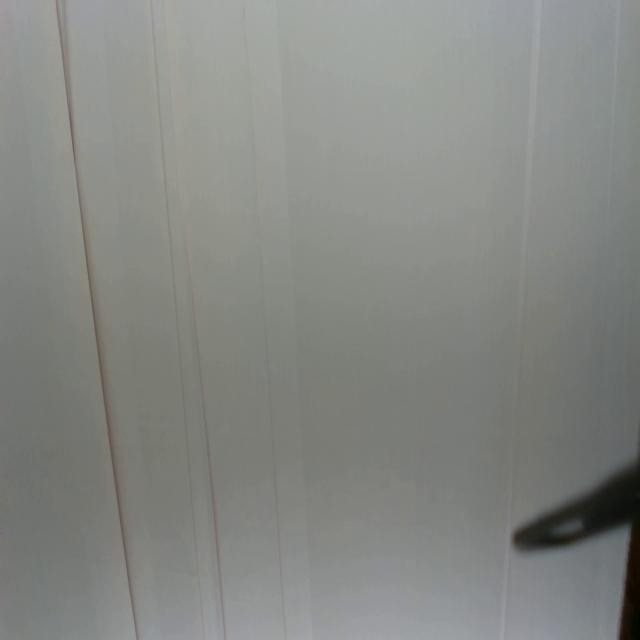crease: (54, 0, 138, 640), (150, 0, 227, 640), (241, 1, 287, 639), (508, 0, 541, 511), (603, 0, 621, 233), (499, 532, 511, 640)
